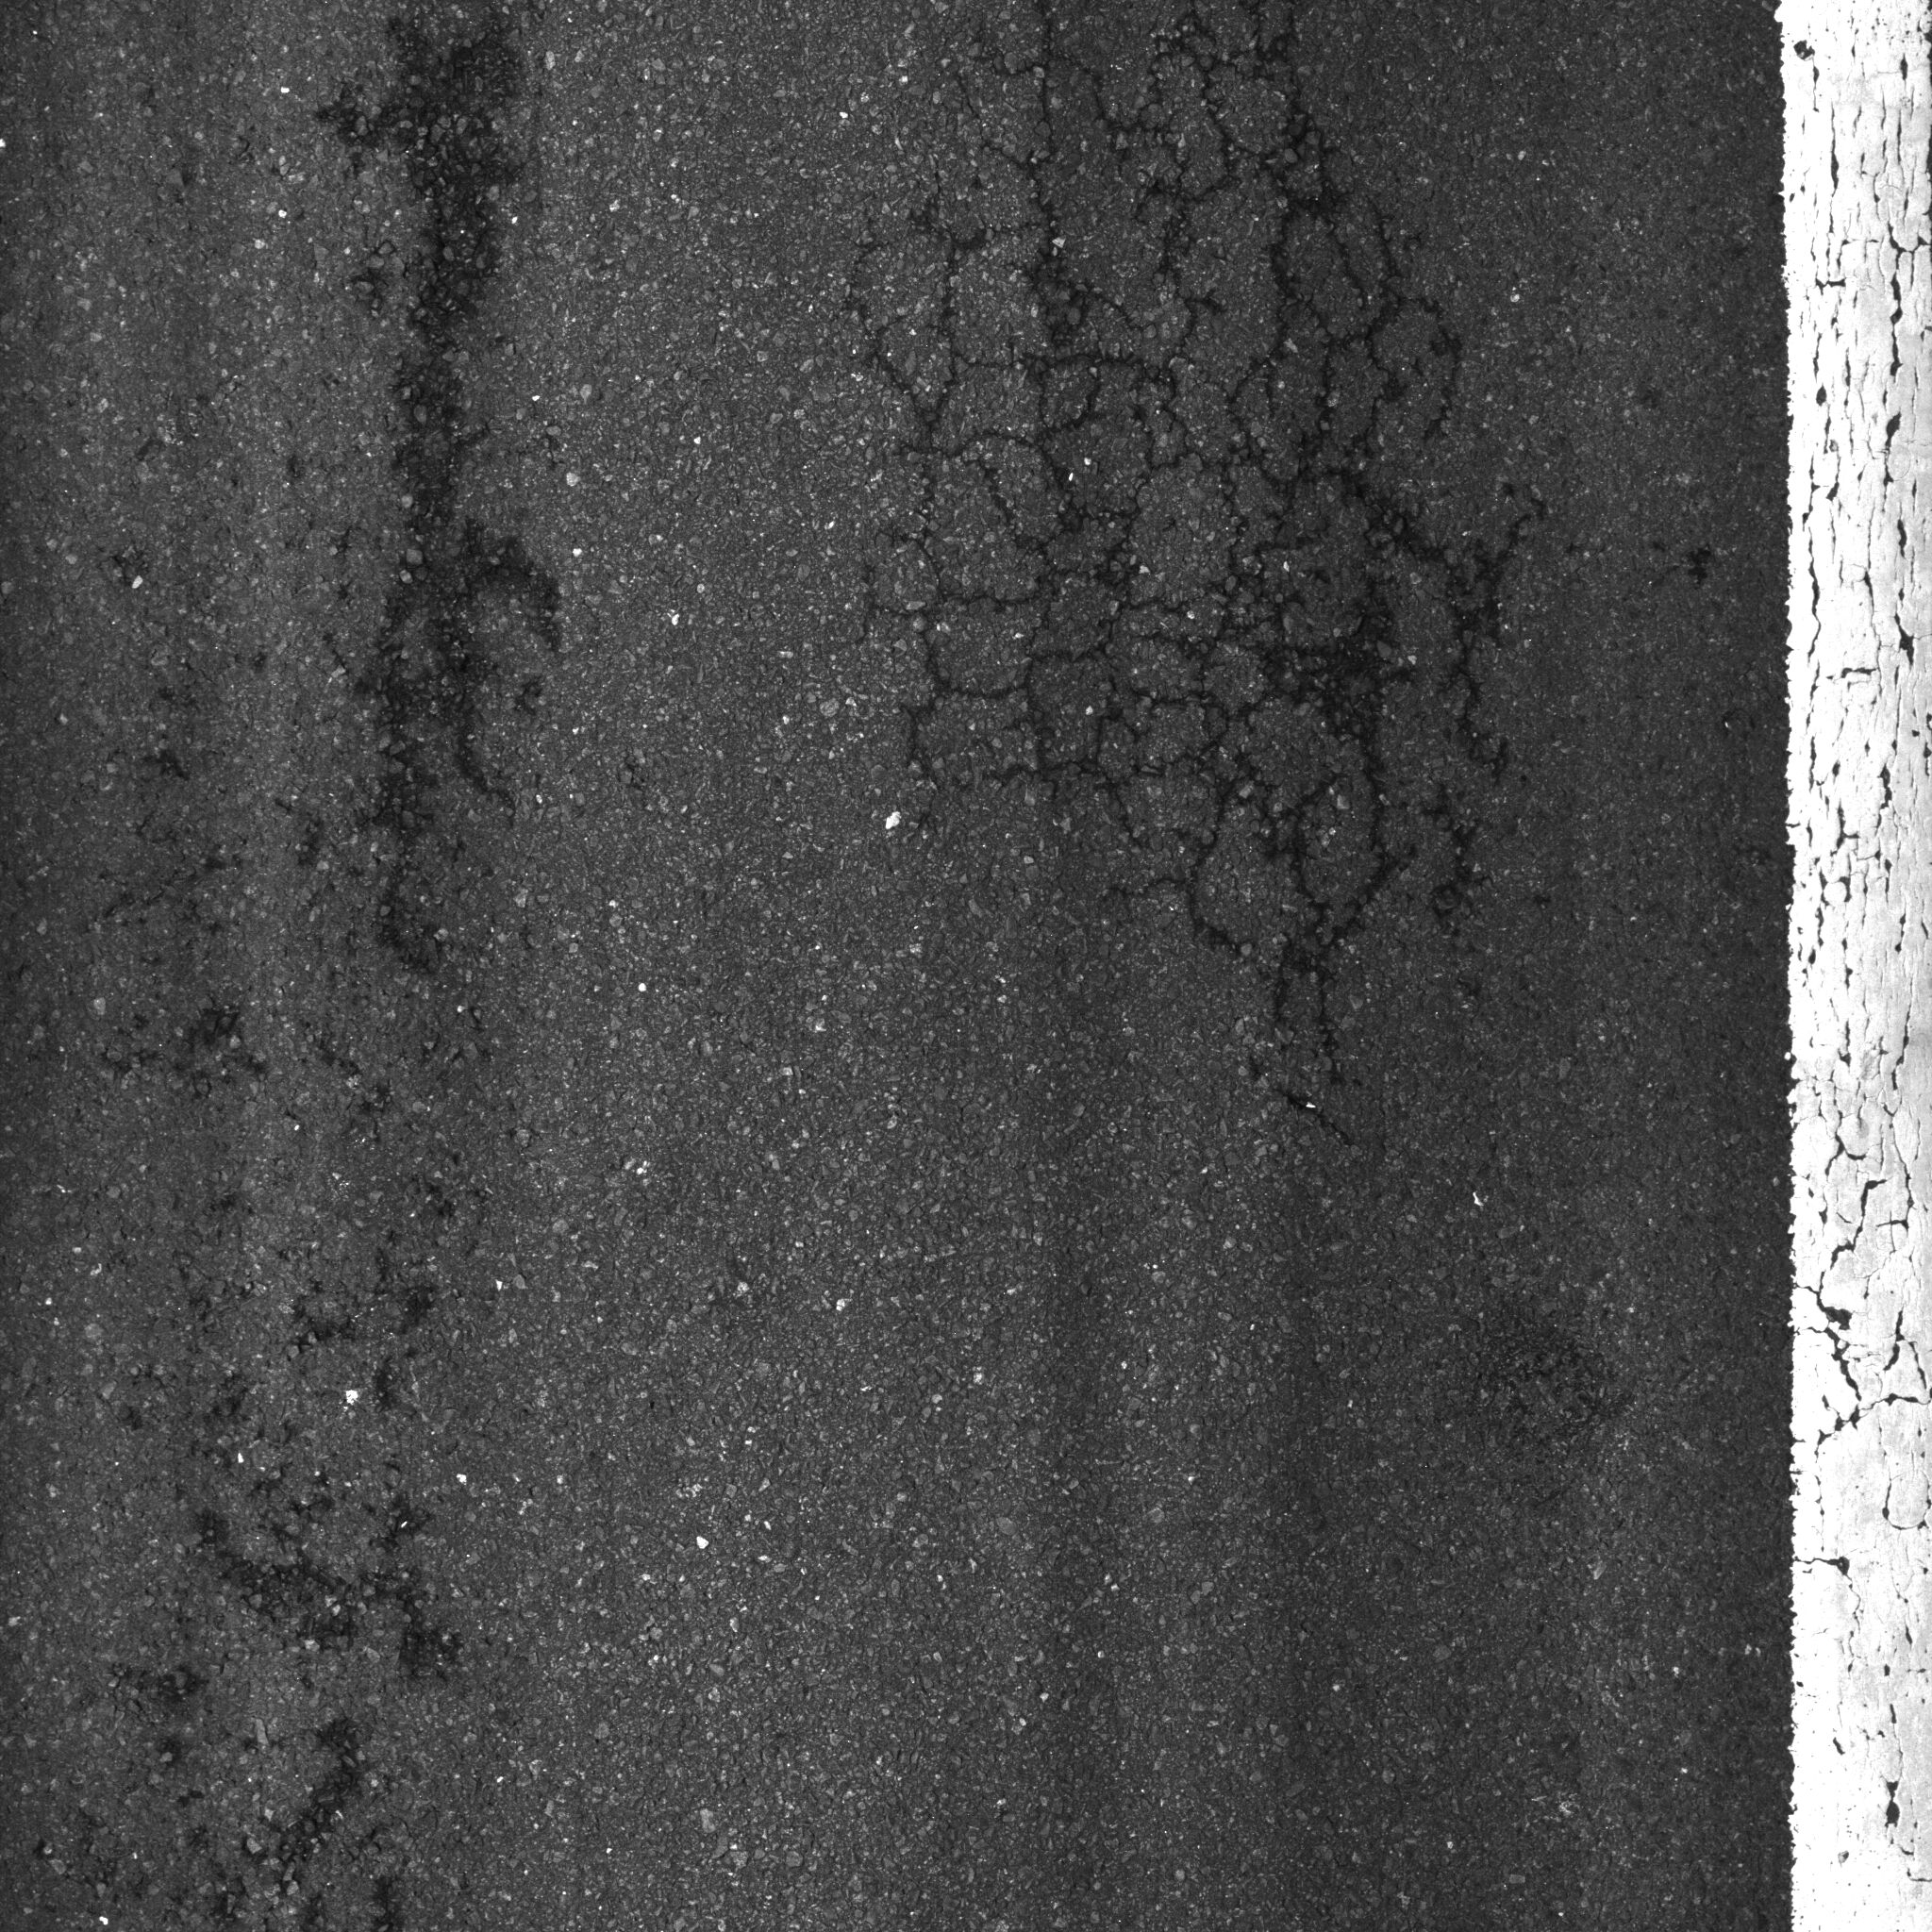alligator: (828, 16, 1580, 1115), (78, 37, 619, 1069)
